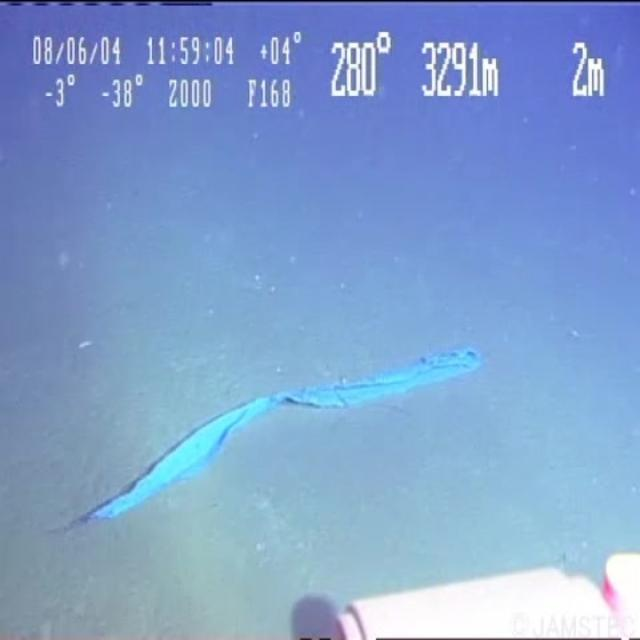Accessories: (53, 332, 526, 533)
